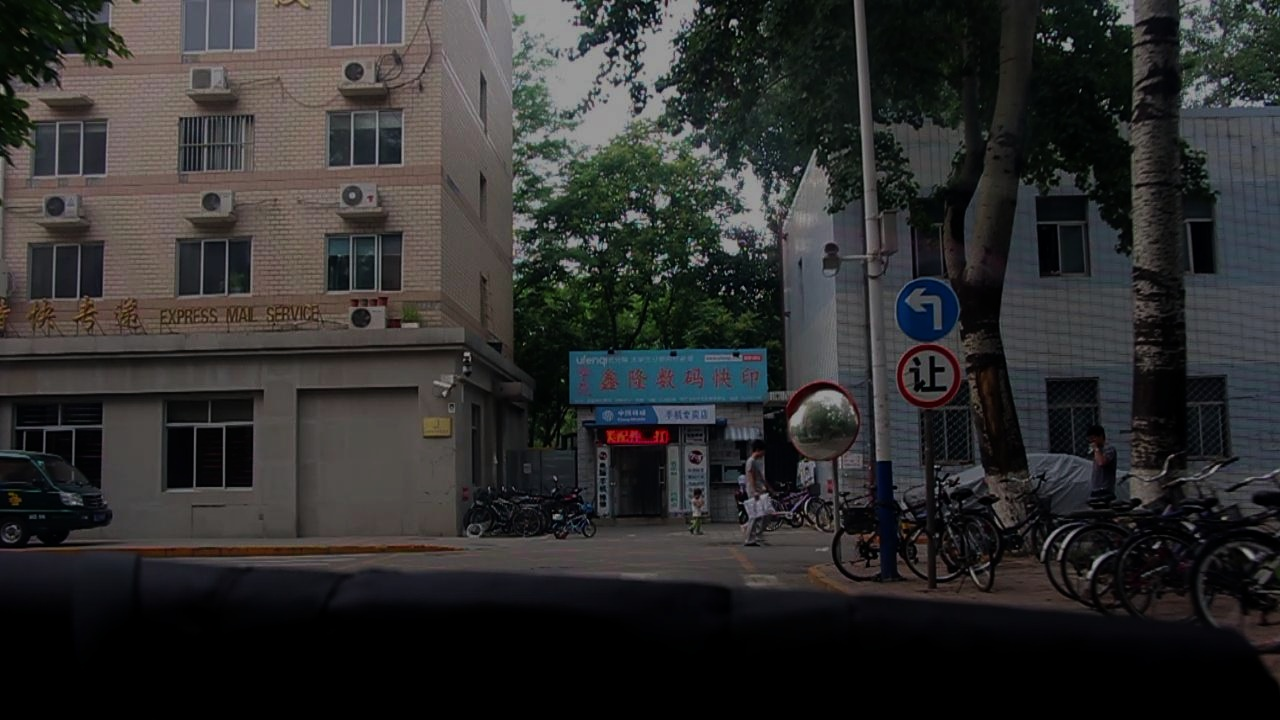Informative Signs: (894, 272, 963, 345)
Prohibitory Signs: (899, 343, 962, 408)
